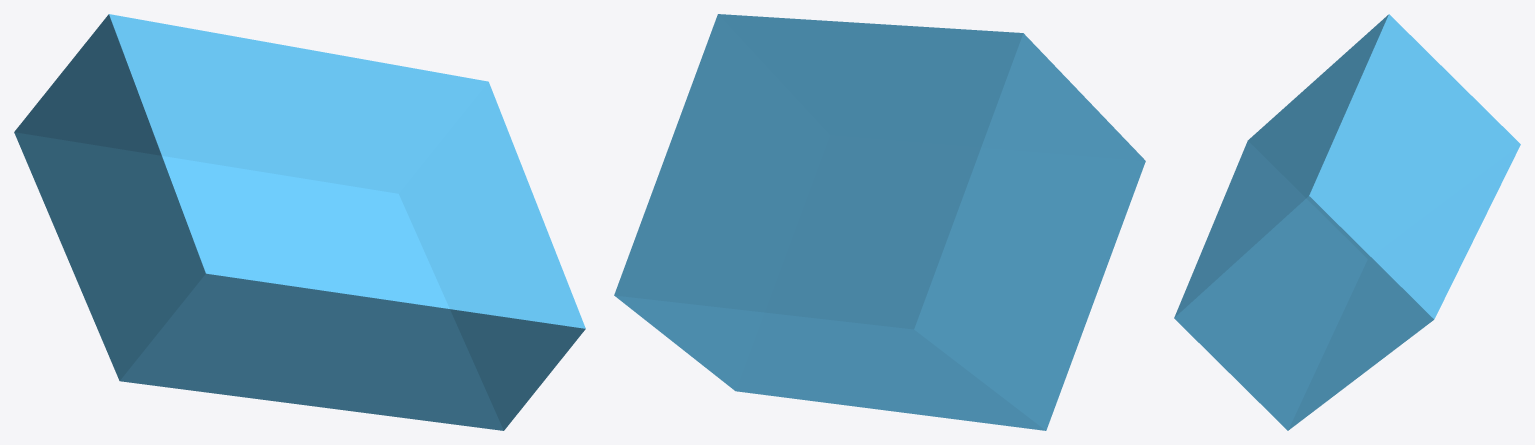
The model's file is Event_421364160_HErechit_35.fbx.
The picture shows the model from 3 angles, left to right: view 1: azimuth 30°, elevation 25°; view 2: azimuth 150°, elevation 25°; view 3: azimuth 270°, elevation 25°; orthographic projection. The views are drawn at different scales.
Visible parts, largest first — view 1: Model; view 2: Model; view 3: Model.
Part boxes in pixels (x1,y1,x2,y2): Model: (14,14,585,430); Model: (614,14,1145,430); Model: (1174,14,1520,430).
Bounding box in the file's own units: 0.5979 × 0.7732 × 0.7903.
